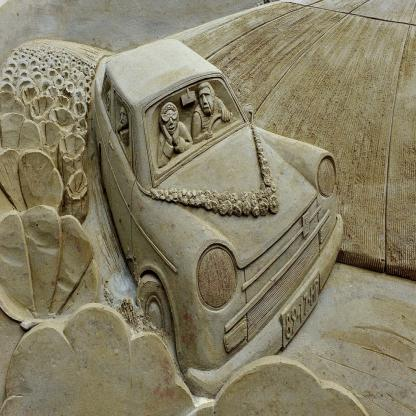Car: (93, 36, 344, 399)
